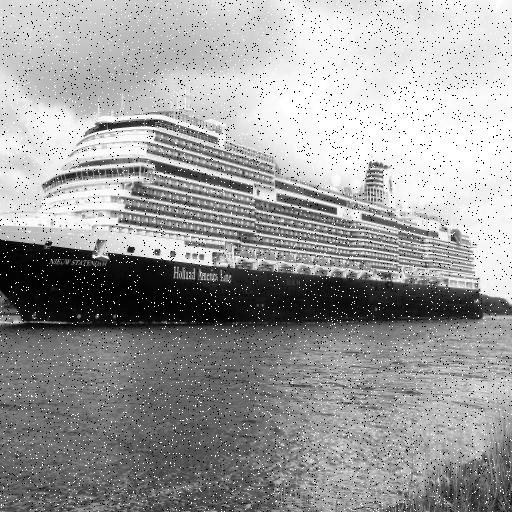cruises: (1, 91, 490, 327)
